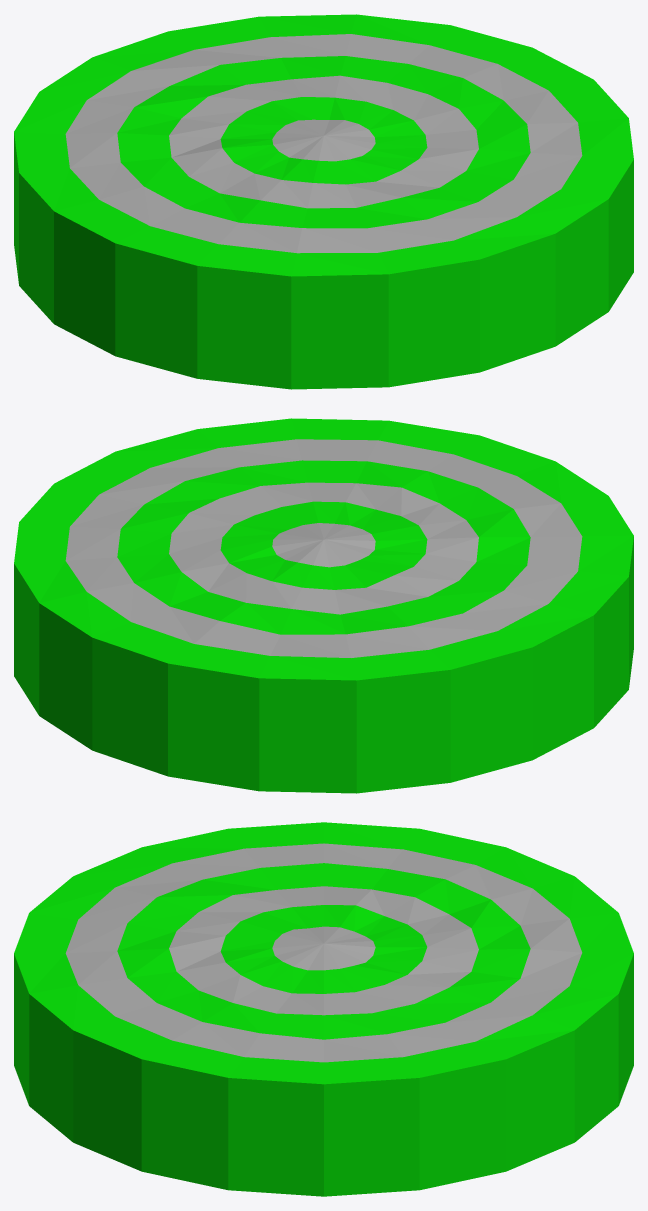
The model's file is p_target.fbx.
The picture shows the model from 3 angles, top to bottom: view 1: azimuth 30°, elevation 25°; view 2: azimuth 150°, elevation 25°; view 3: azimuth 270°, elevation 25°; orthographic projection.
Visible parts, largest first — view 1: p_target1; view 2: p_target1; view 3: p_target1.
Part boxes in pixels (box(x1,y1,x2,y2)): p_target1: box(14, 14, 633, 389); p_target1: box(14, 418, 633, 793); p_target1: box(14, 822, 633, 1196).
Bounding box in the file's own units: 10 × 2.27 × 10.
